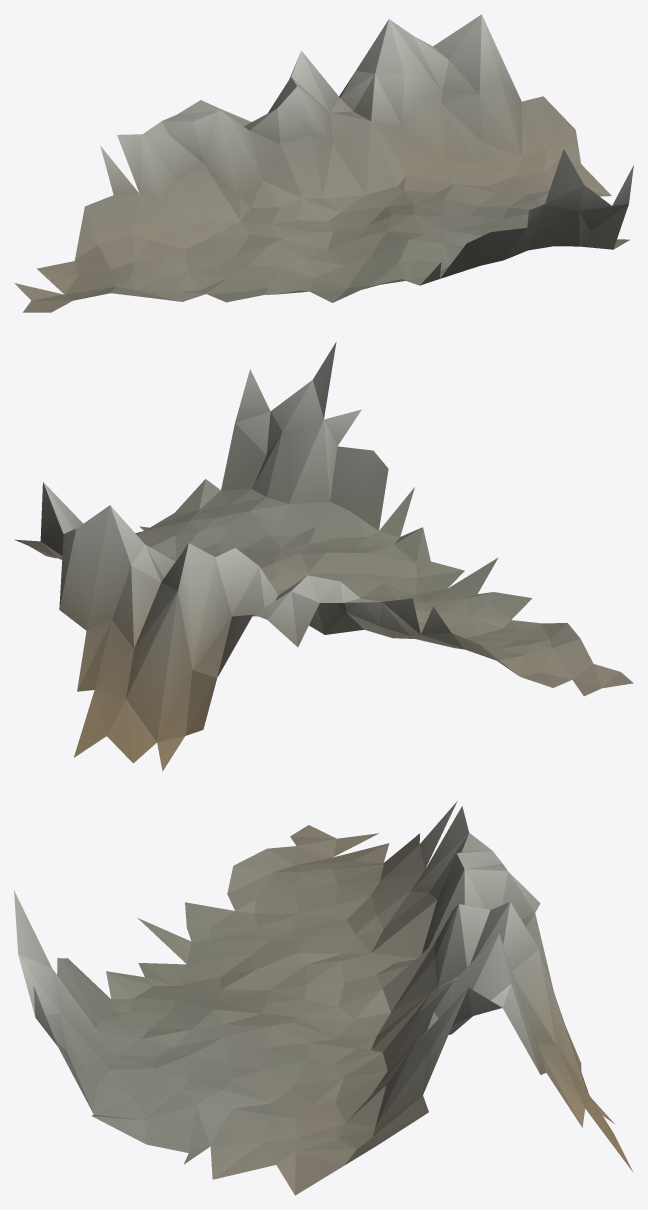
3 views of the same model, one above another, from view 1: azimuth 30°, elevation 25°; view 2: azimuth 150°, elevation 25°; view 3: azimuth 270°, elevation 25° (orthographic). The views are drawn at different scales.
Visible parts, largest first — view 1: 青藏高原; view 2: 青藏高原; view 3: 青藏高原.
Boxes of the visible parts, x1,y1,x2,y2 form: 青藏高原: (14, 14, 633, 312); 青藏高原: (14, 342, 633, 771); 青藏高原: (14, 800, 633, 1195).
Bounding box in the file's own units: 13.61 × 5.15 × 10.35.
